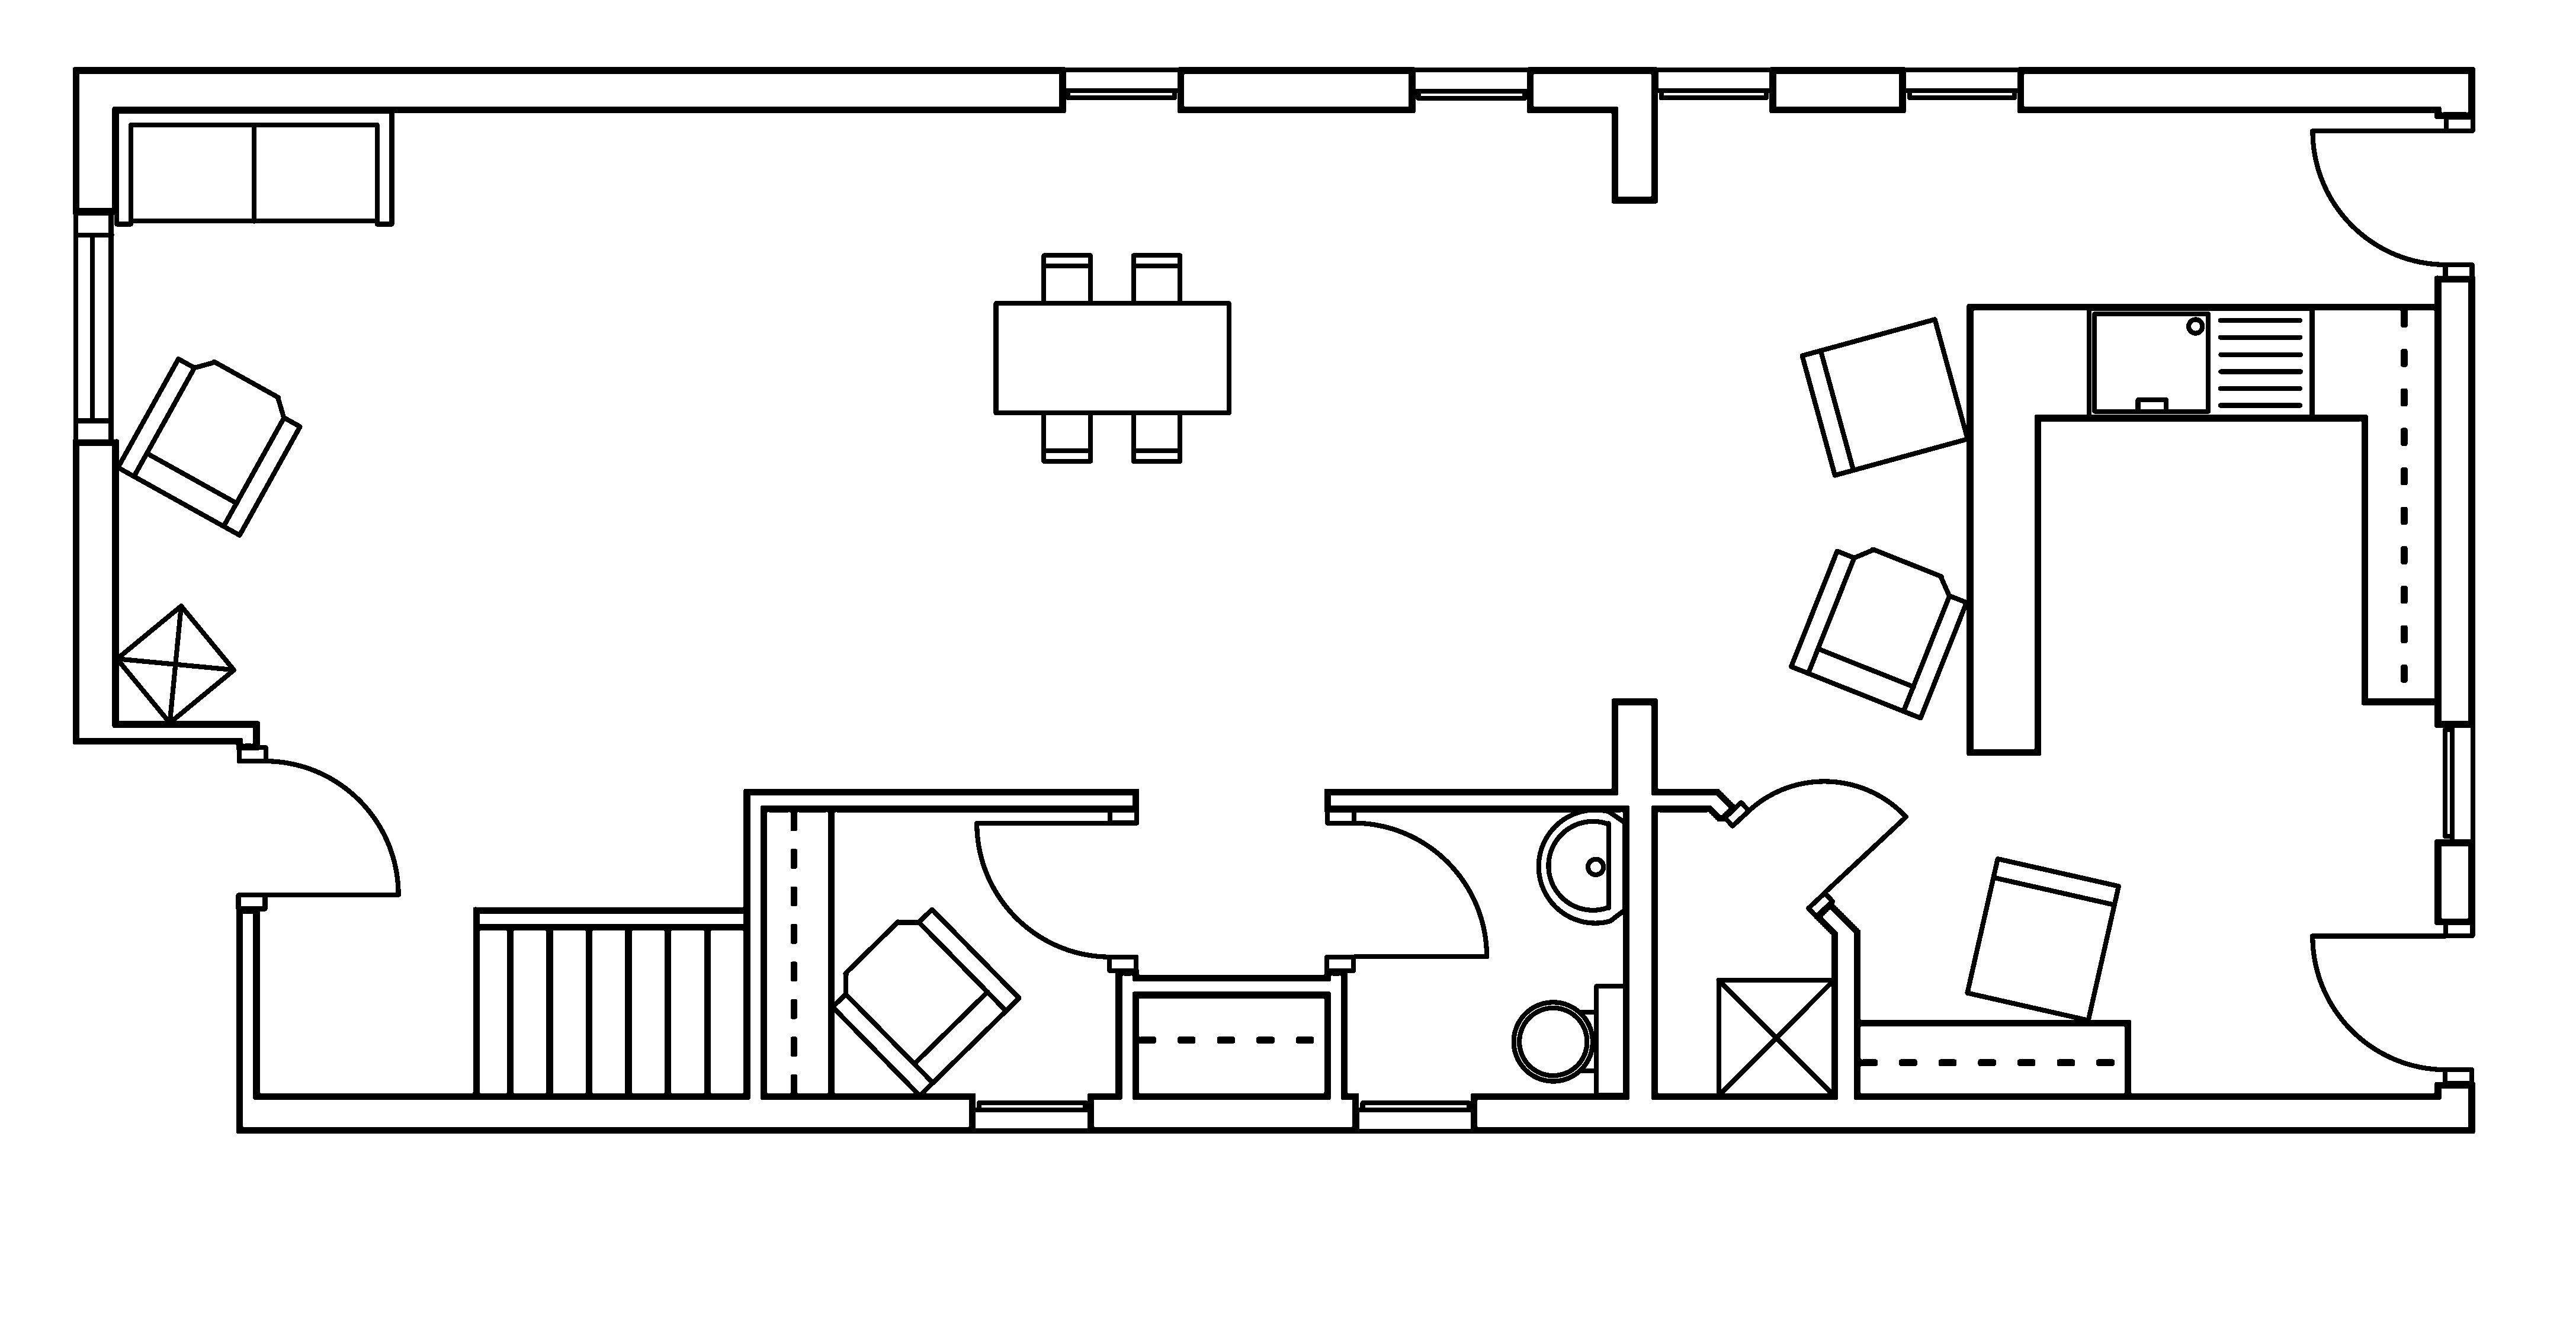armchair: (829, 905, 1022, 1099), (114, 355, 303, 538), (1787, 545, 1969, 720)
coffee_table: (113, 602, 237, 725), (1715, 976, 1836, 1099)
dining_table: (992, 252, 1231, 464)
large_sink: (1512, 983, 1628, 1097)
large_sofa: (113, 108, 395, 227)
sink: (2085, 305, 2314, 421)
small_sink: (1535, 808, 1628, 925)
small_sofa: (1797, 316, 1971, 478), (1964, 855, 2120, 1023)
